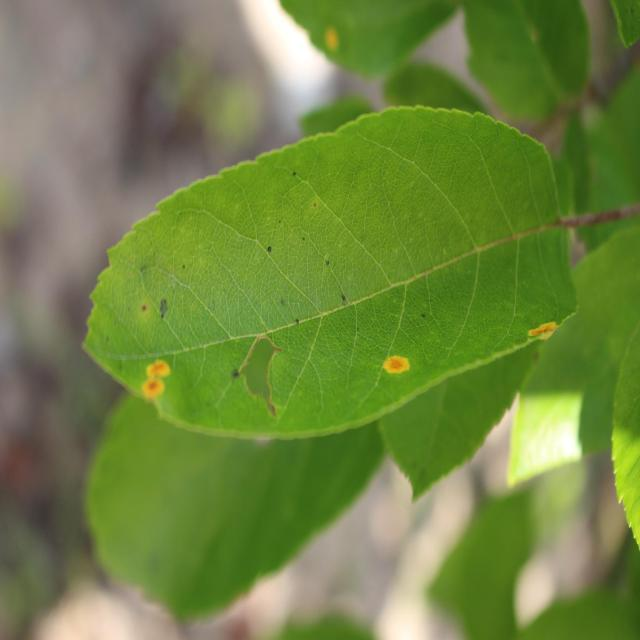Rust: (378, 338, 417, 382), (132, 352, 179, 380), (525, 314, 564, 346), (136, 378, 174, 401)
